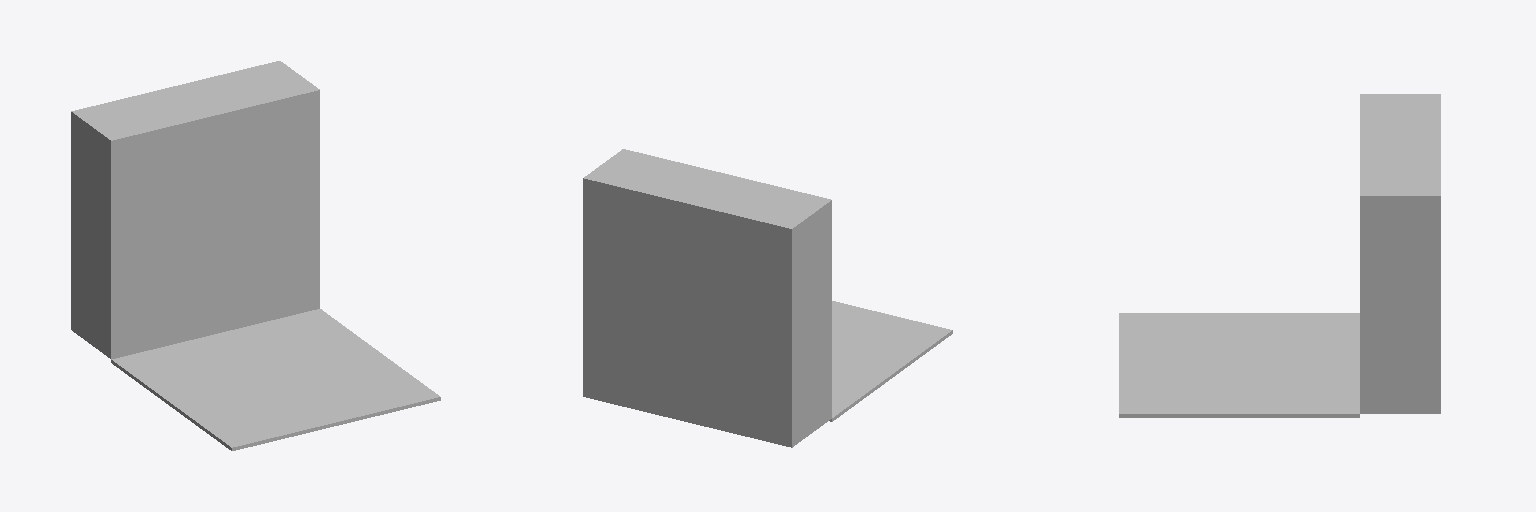
Rendered from inter_lr.obj.
The picture shows the model from 3 angles: view 1: azimuth 30°, elevation 25°; view 2: azimuth 150°, elevation 25°; view 3: azimuth 270°, elevation 25°; orthographic projection.
Visible parts, largest first — view 1: Cube, Cube.2; view 2: Cube, Cube.2; view 3: Cube, Cube.2.
Part boxes in pixels (x1,y1,x2,y2): Cube: (71, 61, 319, 359); Cube.2: (111, 309, 440, 450); Cube: (583, 149, 831, 447); Cube.2: (829, 301, 952, 421); Cube: (1360, 94, 1440, 413); Cube.2: (1119, 313, 1359, 417).
Bounding box in the file's own units: 6 × 6.1 × 8.